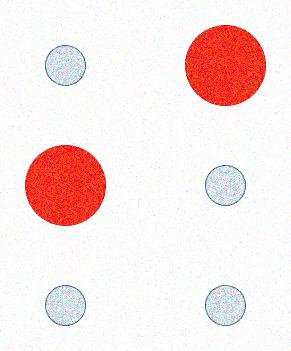I: (19, 19, 271, 330)
